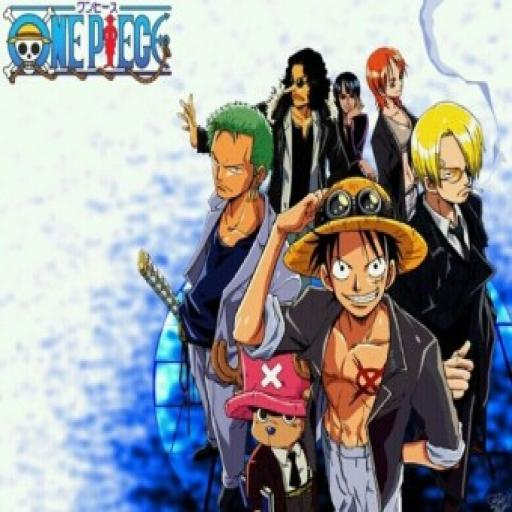Luffy: (277, 173, 425, 322)
Nami: (368, 40, 416, 108)
NicoRobin: (332, 63, 366, 125)
Usopp: (271, 46, 327, 115)
Zoro: (196, 94, 277, 212)
sanji: (407, 101, 490, 209)
